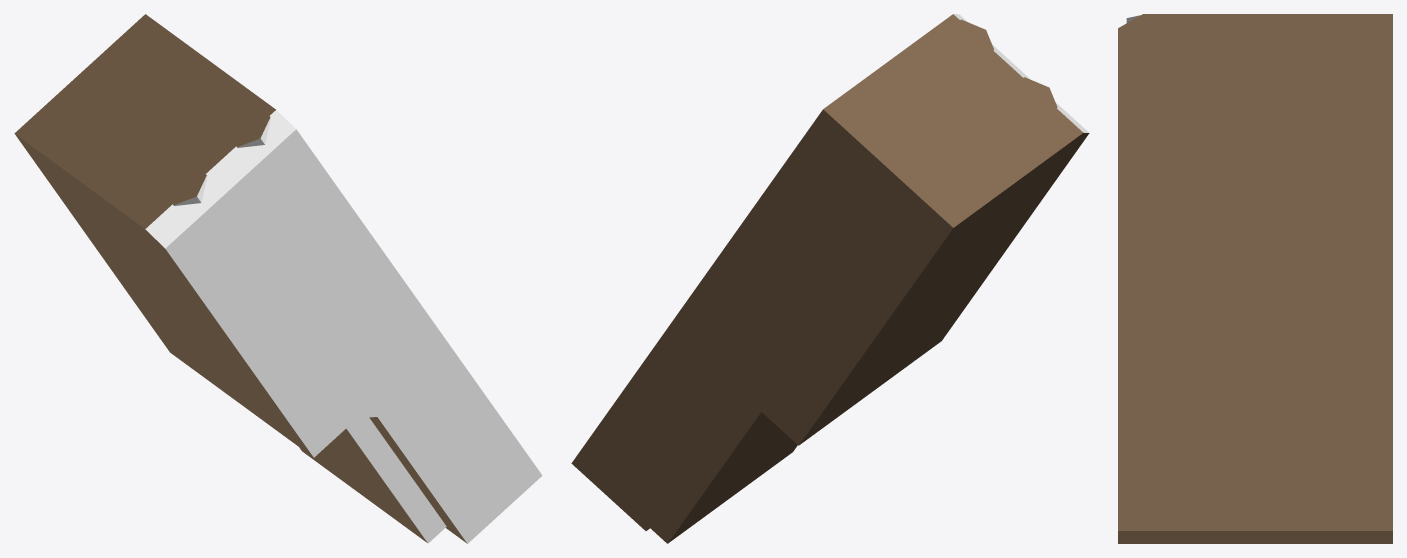
The picture shows the model from 3 angles, left to right: view 1: azimuth 30°, elevation 25°; view 2: azimuth 150°, elevation 25°; view 3: azimuth 270°, elevation 25°; orthographic projection. The views are drawn at different scales.
Parts seen in each view (by area): view 1: City_PC-33073; view 2: City_PC-33073; view 3: City_PC-33073.
Boxes of the visible parts, box(x1,y1,x2,y2) form: City_PC-33073: box(14, 14, 542, 543); City_PC-33073: box(571, 14, 1089, 543); City_PC-33073: box(1118, 14, 1392, 543).
Bounding box in the file's own units: 1568 × 1854 × 1017.
